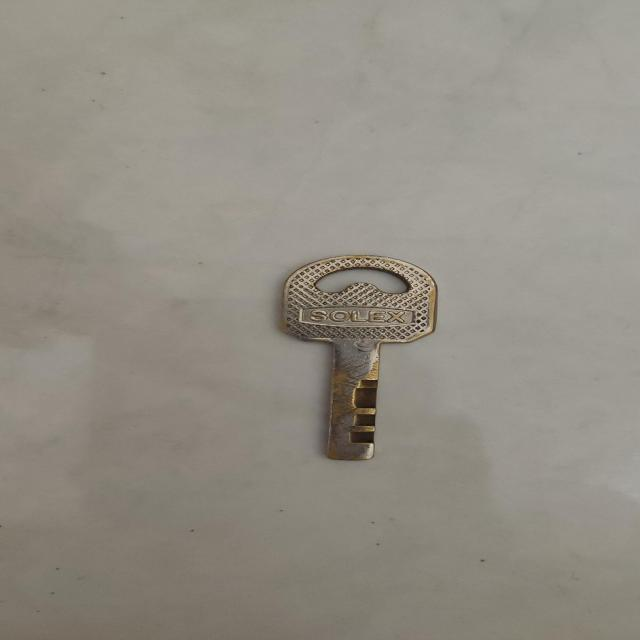kunci_pagar: (269, 254, 453, 466)
